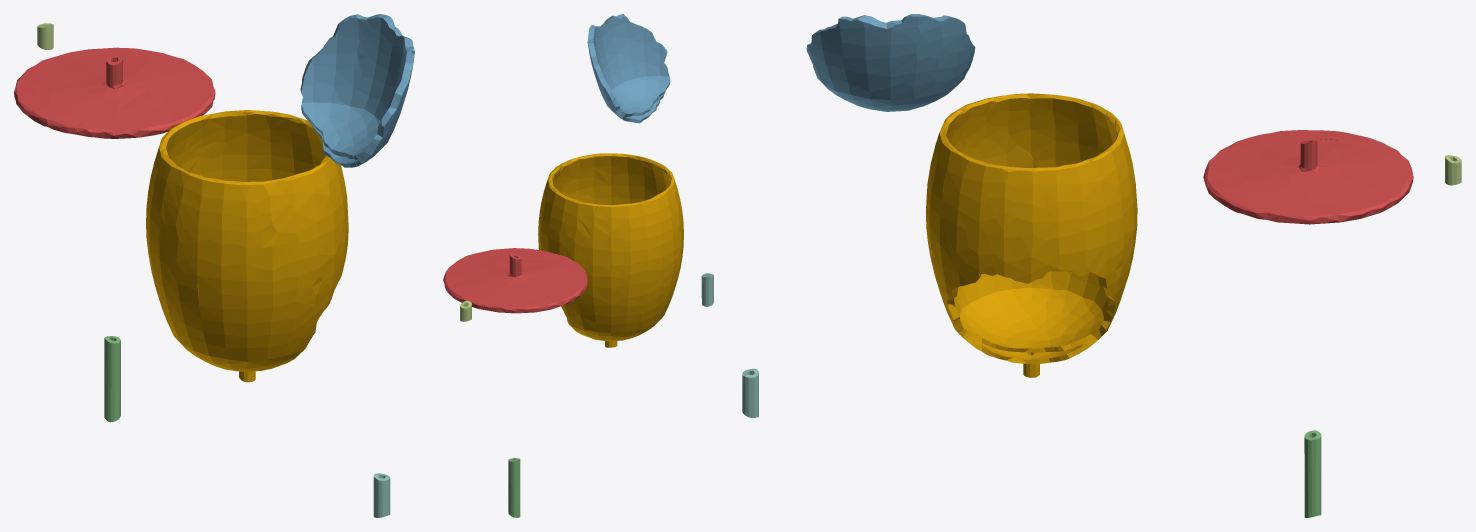
The model's file is fractured_53_6pcs_transformed.glb.
3 renders of one model, left to right at view 1: azimuth 30°, elevation 25°; view 2: azimuth 150°, elevation 25°; view 3: azimuth 270°, elevation 25°, orthographic. The views are drawn at different scales.
Visible parts, largest first — view 1: piece_0.obj, piece_1.obj, piece_2.obj, piece_3.obj, piece_4.obj; view 2: piece_0.obj, piece_1.obj, piece_2.obj, piece_3.obj, piece_4.obj; view 3: piece_0.obj, piece_1.obj, piece_2.obj, piece_3.obj, piece_4.obj.
Part boxes in pixels (x1=…): piece_0.obj: x1=146, y1=110, x2=348, y2=382; piece_1.obj: x1=14, y1=47, x2=215, y2=138; piece_2.obj: x1=300, y1=14, x2=414, y2=167; piece_3.obj: x1=104, y1=336, x2=120, y2=421; piece_4.obj: x1=373, y1=473, x2=390, y2=517; piece_0.obj: x1=538, y1=153, x2=683, y2=347; piece_1.obj: x1=443, y1=248, x2=587, y2=313; piece_2.obj: x1=587, y1=14, x2=670, y2=123; piece_3.obj: x1=508, y1=458, x2=520, y2=517; piece_4.obj: x1=701, y1=273, x2=713, y2=306; piece_0.obj: x1=926, y1=93, x2=1137, y2=377; piece_1.obj: x1=1203, y1=130, x2=1413, y2=224; piece_2.obj: x1=806, y1=14, x2=975, y2=111; piece_3.obj: x1=1304, y1=430, x2=1321, y2=517; piece_4.obj: x1=742, y1=368, x2=758, y2=417.
Size of the model in its own units: 0.4519 by 1.28 by 1.54.
